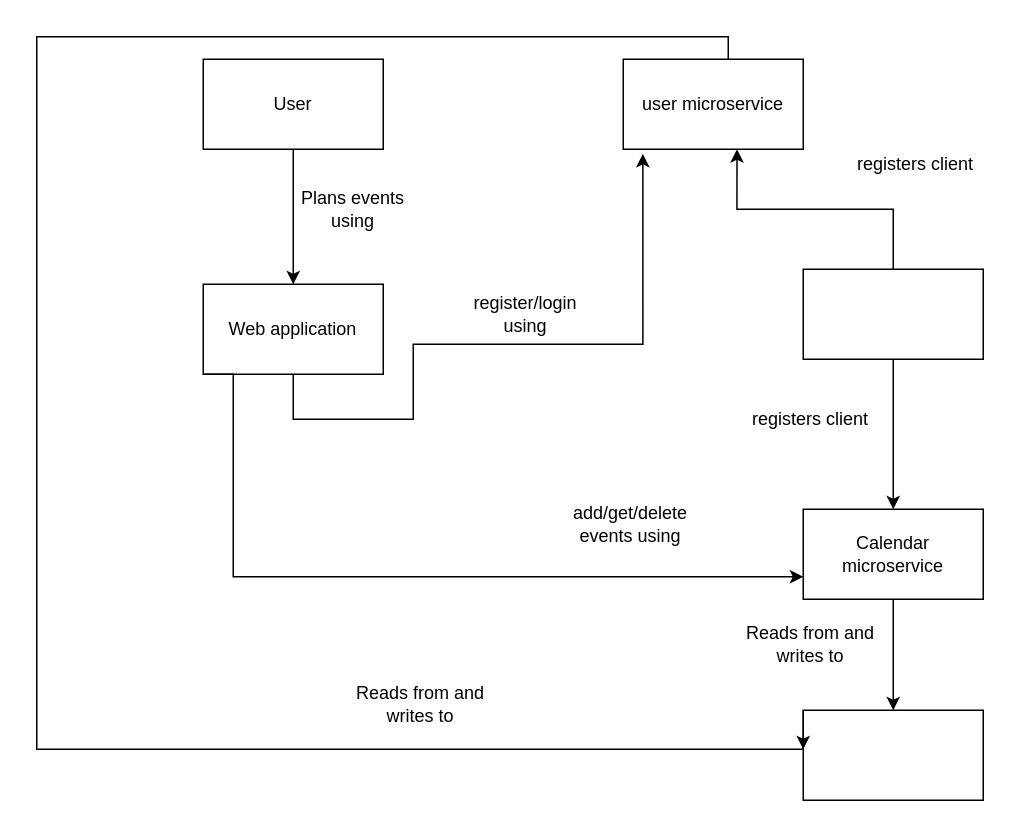
Image size: 1010x827. Some labels were removed from this diagram. Here are the shapes that lost their labels. From the top down, the centre of each, then its label:
[892,313]: discovery-server
[892,754]: MySQL
